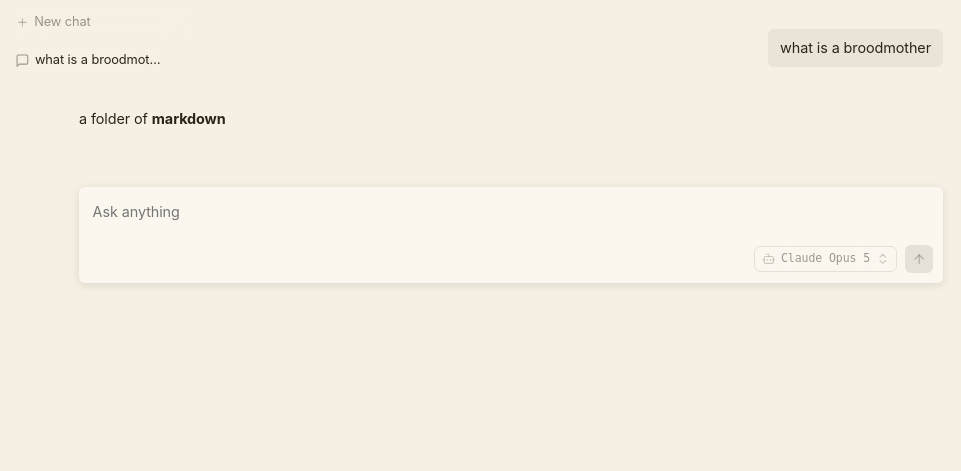
Test: draws what the answer did, and keeps it once the answer lands
In the text box named "Message": point(511, 218) [89,197,933,239], type "tidy up"
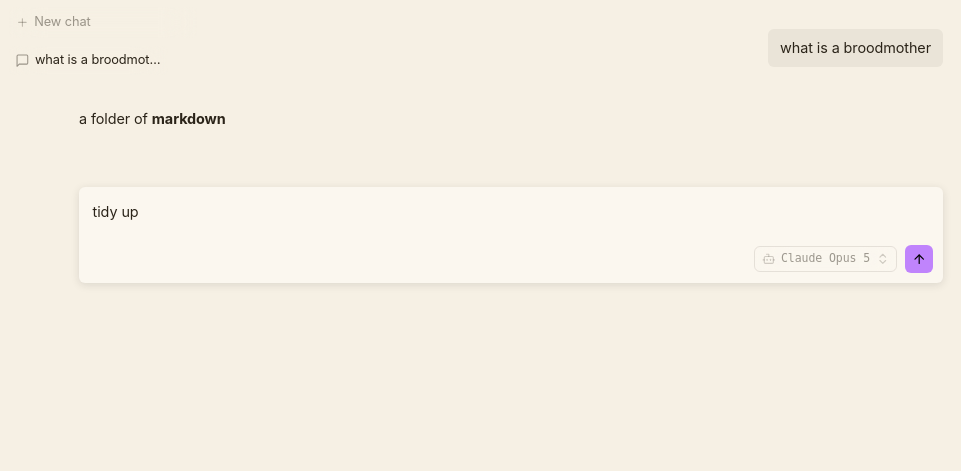
Click the button named "Send": point(919, 259) [905,245,933,273]
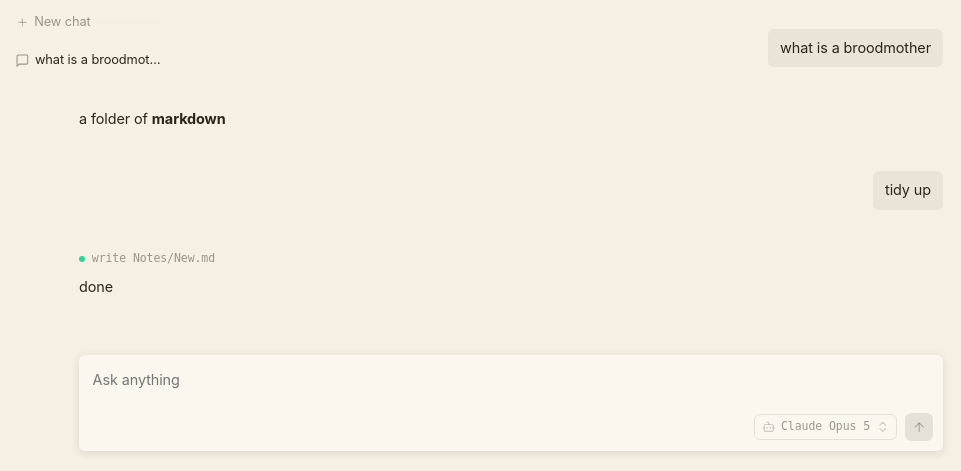
Check: the list named "What it did" reads "write Notes/New.md", box [92,251,215,265]
